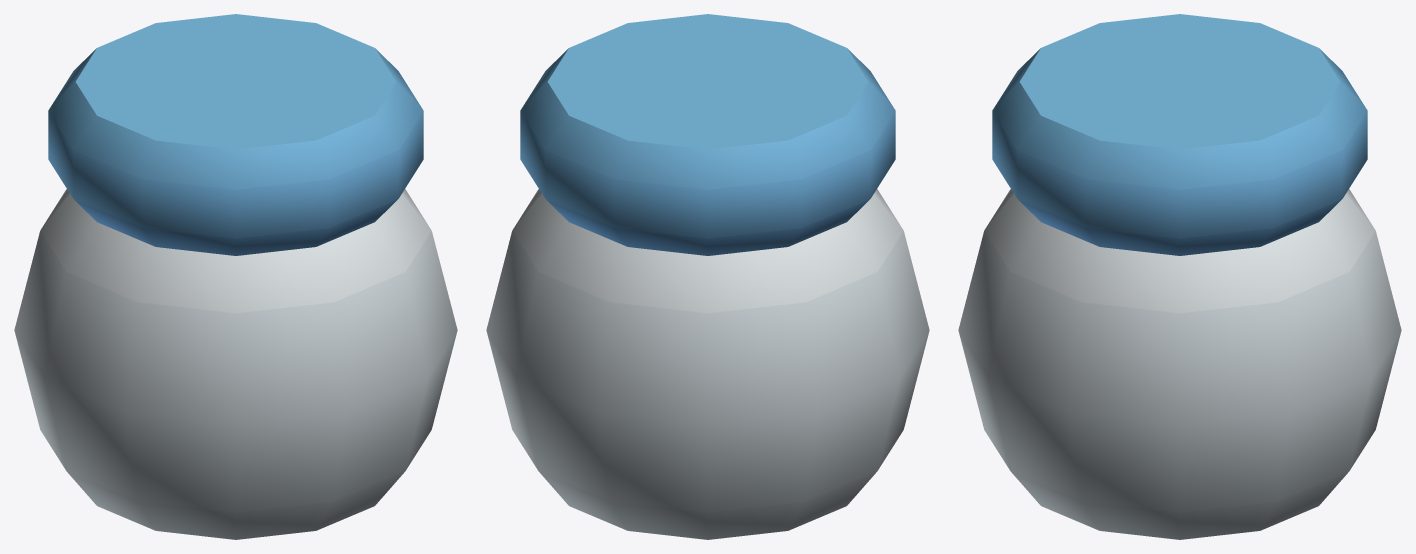
Rendered from kk_jar_a.glb.
3 renders of one model, left to right at view 1: azimuth 30°, elevation 25°; view 2: azimuth 150°, elevation 25°; view 3: azimuth 270°, elevation 25°, orthographic.
Visible parts, largest first — view 1: jar_A_small; view 2: jar_A_small; view 3: jar_A_small.
Boxes of the visible parts, x1,y1,x2,y2 form: jar_A_small: [14, 14, 457, 539]; jar_A_small: [486, 14, 929, 539]; jar_A_small: [958, 14, 1401, 539].
Bounding box in the file's own units: 0.1338 × 0.13 × 0.1338.
Materials: 1 (1 with a texture image).
